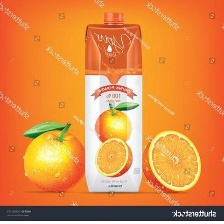carton: (81, 10, 144, 196)
